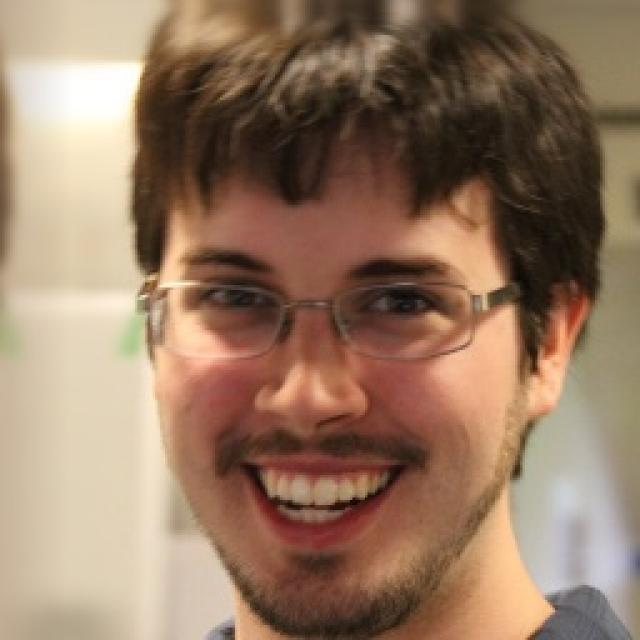glasses: (129, 255, 524, 371)
